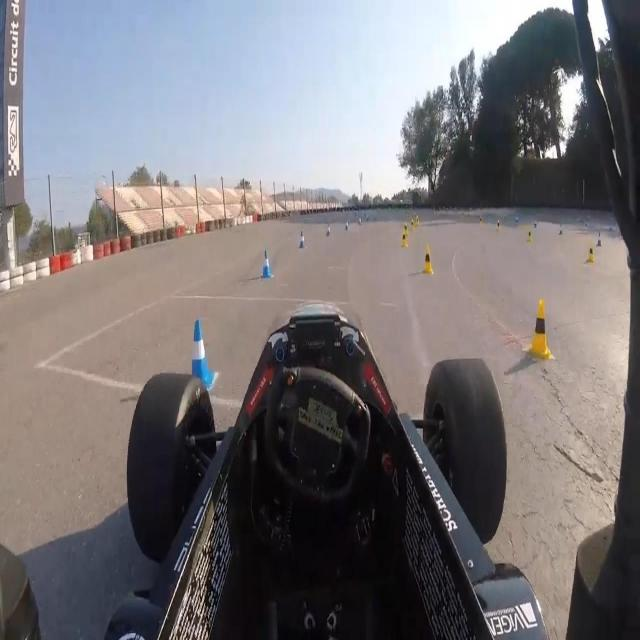blue_cone: (190, 320, 211, 391), (262, 250, 270, 276), (326, 222, 331, 238), (598, 230, 602, 246), (300, 232, 304, 247), (558, 222, 562, 236), (345, 218, 349, 231)
yellow_cone: (534, 300, 548, 360), (423, 246, 433, 276), (588, 240, 594, 265), (526, 224, 532, 242), (402, 230, 406, 249), (403, 222, 408, 236), (496, 218, 500, 231), (411, 219, 414, 228)
